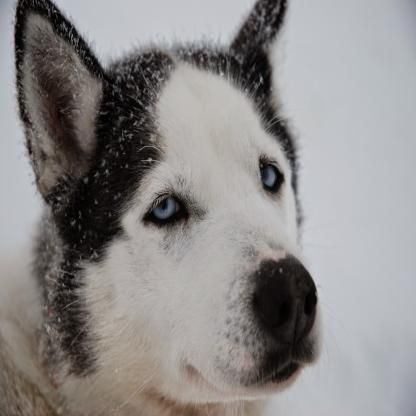husky: (0, 4, 323, 416)
